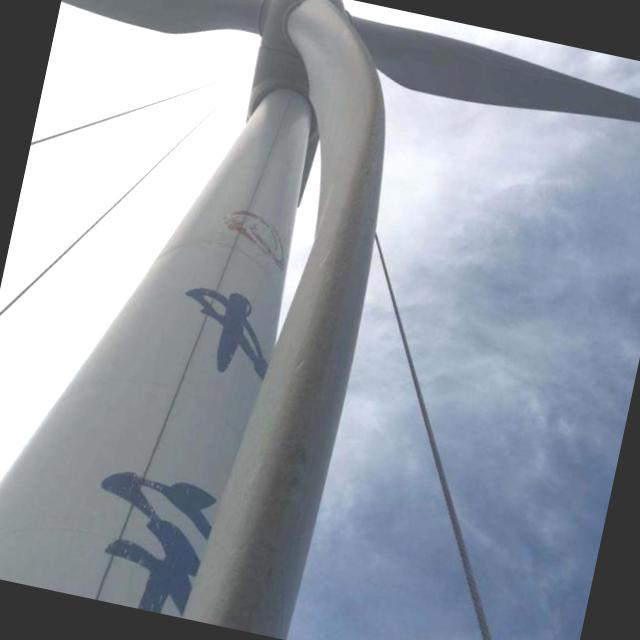corrosion: (192, 210, 374, 624)
